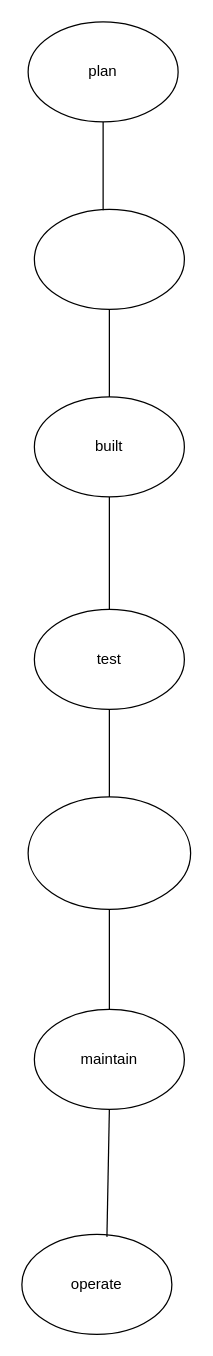
Image size: 213x1356. Some labels were removed from this diagram. The centre of each missing label's shape, as x and y in pixels:
"develop" goes at (108,258).
"devop" goes at (109,852).
